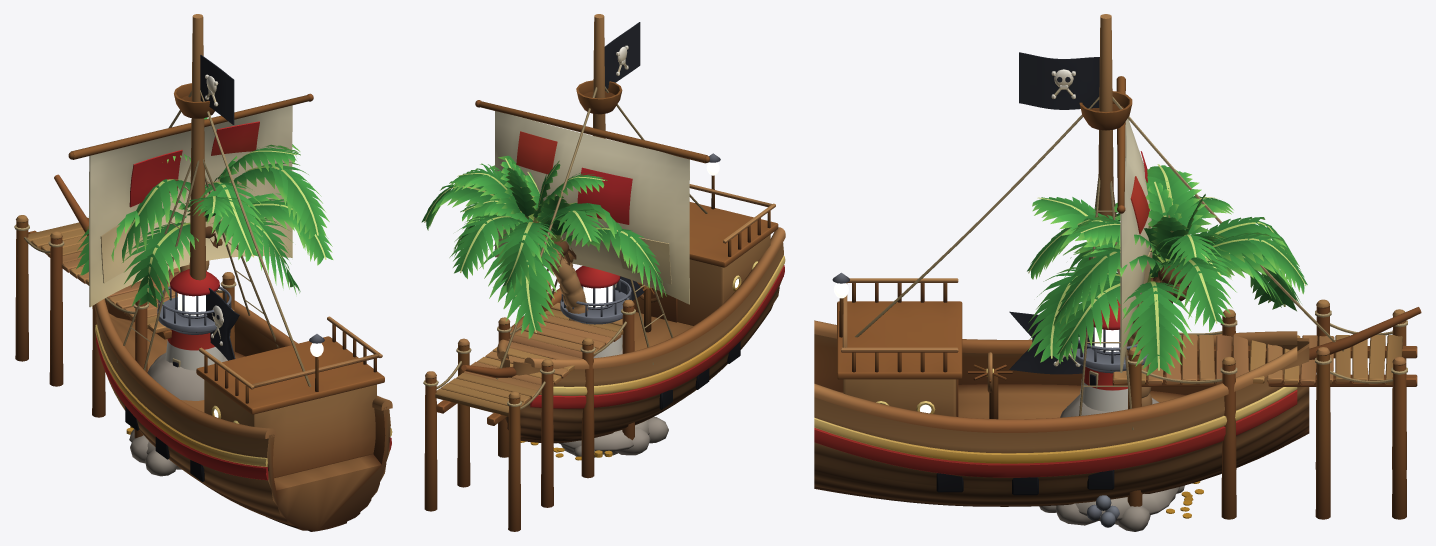
Rendered from props-pirate.glb.
The picture shows the model from 3 angles, left to right: view 1: azimuth 30°, elevation 25°; view 2: azimuth 150°, elevation 25°; view 3: azimuth 270°, elevation 25°; orthographic projection. The views are drawn at different scales.
Parts seen in each view (by area): view 1: prop-pirate-ship, prop-pirate-dock, prop-pirate-palm, prop-pirate-palm2, prop-pirate-lighthouse, prop-pirate-skullrock, prop-pirate-flagpole; view 2: prop-pirate-ship, prop-pirate-dock, prop-pirate-palm2, prop-pirate-palm, prop-pirate-lighthouse, prop-pirate-skullrock; view 3: prop-pirate-ship, prop-pirate-dock, prop-pirate-palm2, prop-pirate-palm, prop-pirate-lighthouse, prop-pirate-flagpole, prop-pirate-skullrock.
Part boxes in pixels (x1,y1,x2,y2): prop-pirate-ship: [54, 14, 392, 531]; prop-pirate-dock: [14, 215, 236, 438]; prop-pirate-palm: [76, 156, 333, 307]; prop-pirate-palm2: [122, 117, 329, 272]; prop-pirate-lighthouse: [129, 269, 231, 476]; prop-pirate-skullrock: [130, 352, 227, 463]; prop-pirate-flagpole: [206, 288, 239, 360]; prop-pirate-ship: [461, 14, 785, 443]; prop-pirate-dock: [423, 279, 635, 531]; prop-pirate-palm2: [421, 155, 644, 323]; prop-pirate-palm: [453, 172, 666, 338]; prop-pirate-lighthouse: [558, 266, 668, 457]; prop-pirate-skullrock: [561, 349, 650, 455]; prop-pirate-ship: [814, 14, 1421, 506]; prop-pirate-dock: [1112, 299, 1417, 519]; prop-pirate-palm2: [1027, 164, 1307, 406]; prop-pirate-palm: [1027, 196, 1301, 375]; prop-pirate-lighthouse: [1039, 299, 1184, 531]; prop-pirate-flagpole: [1009, 301, 1117, 374]; prop-pirate-skullrock: [1056, 394, 1175, 525].
Bounding box in the file's own units: 3.75 × 6.13 × 6.77.
